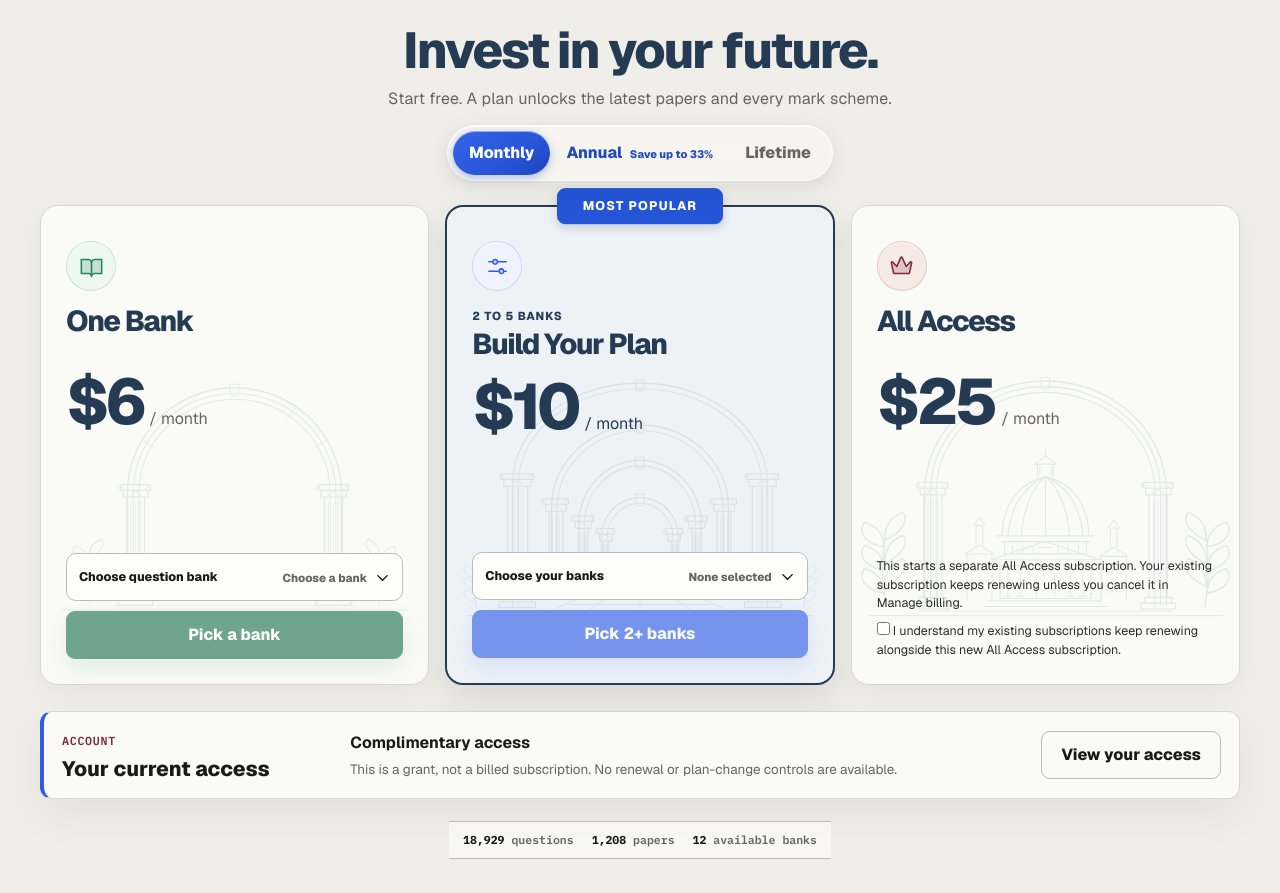
Test case: PricingPage › labels complimentary coverage on the lifetime button as complimentary, not lifetime
The image size is (1280, 893).
Click the button "Lifetime".
click(778, 153)  # box [729,131,827,175]
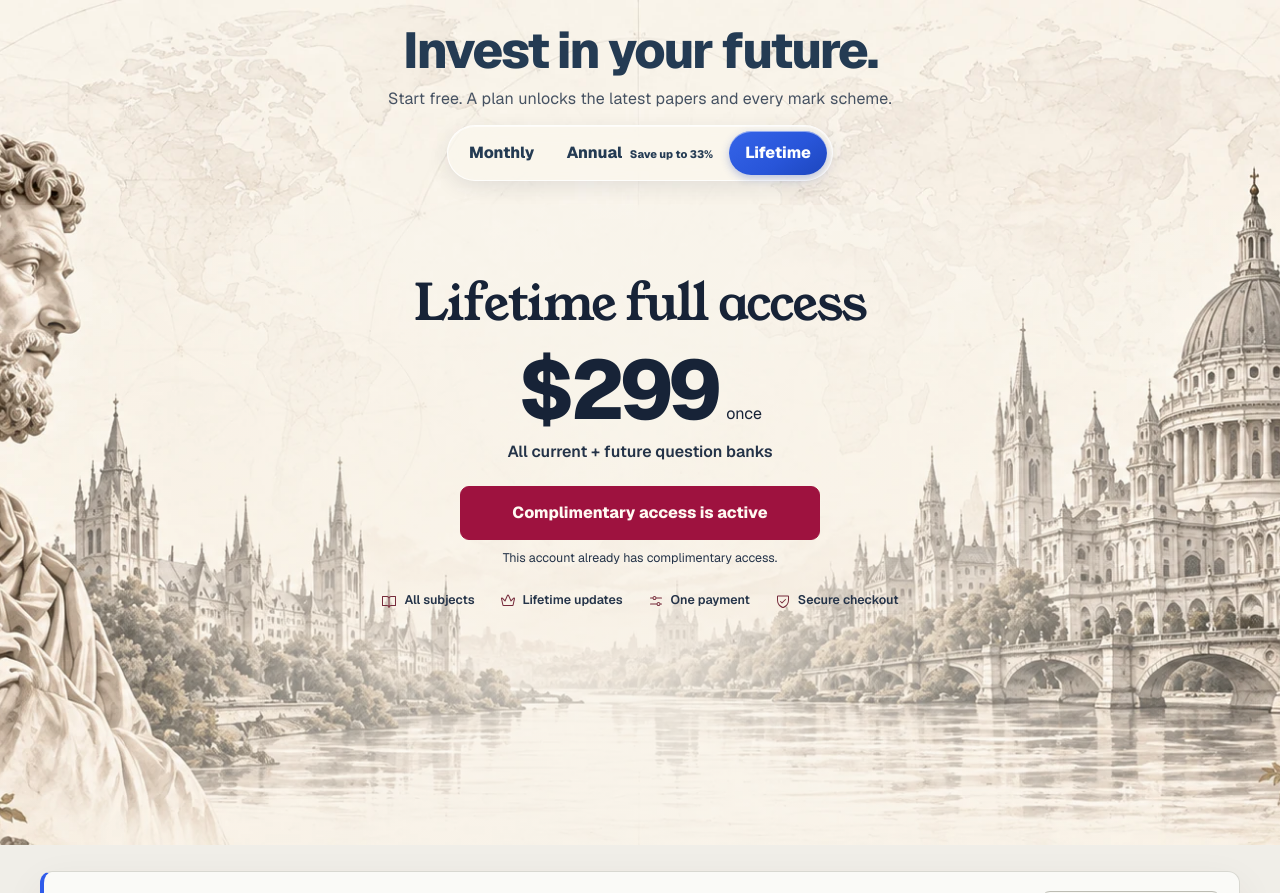
Result: the button "Complimentary access is active" is disabled at [460,486,820,540]
